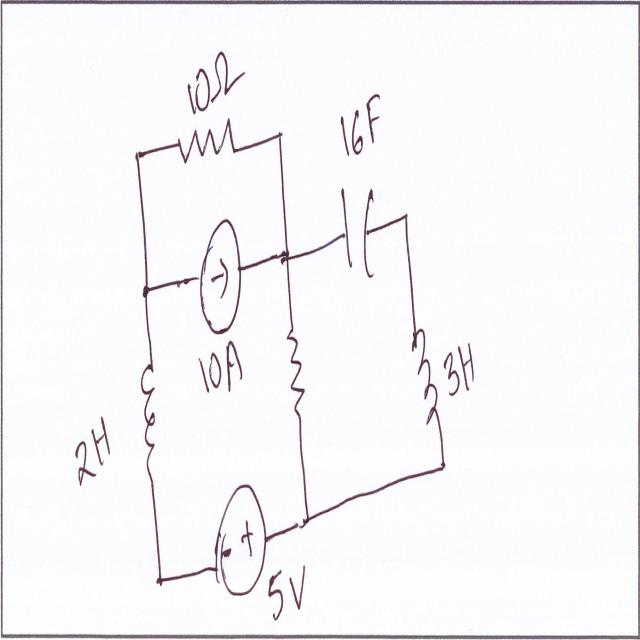capacitor: (333, 170, 378, 284)
current_source: (194, 212, 246, 342)
inductor: (408, 319, 441, 428), (137, 359, 161, 470)
resistor: (175, 111, 235, 176), (284, 320, 320, 426)
voltage_source: (215, 472, 266, 598)
